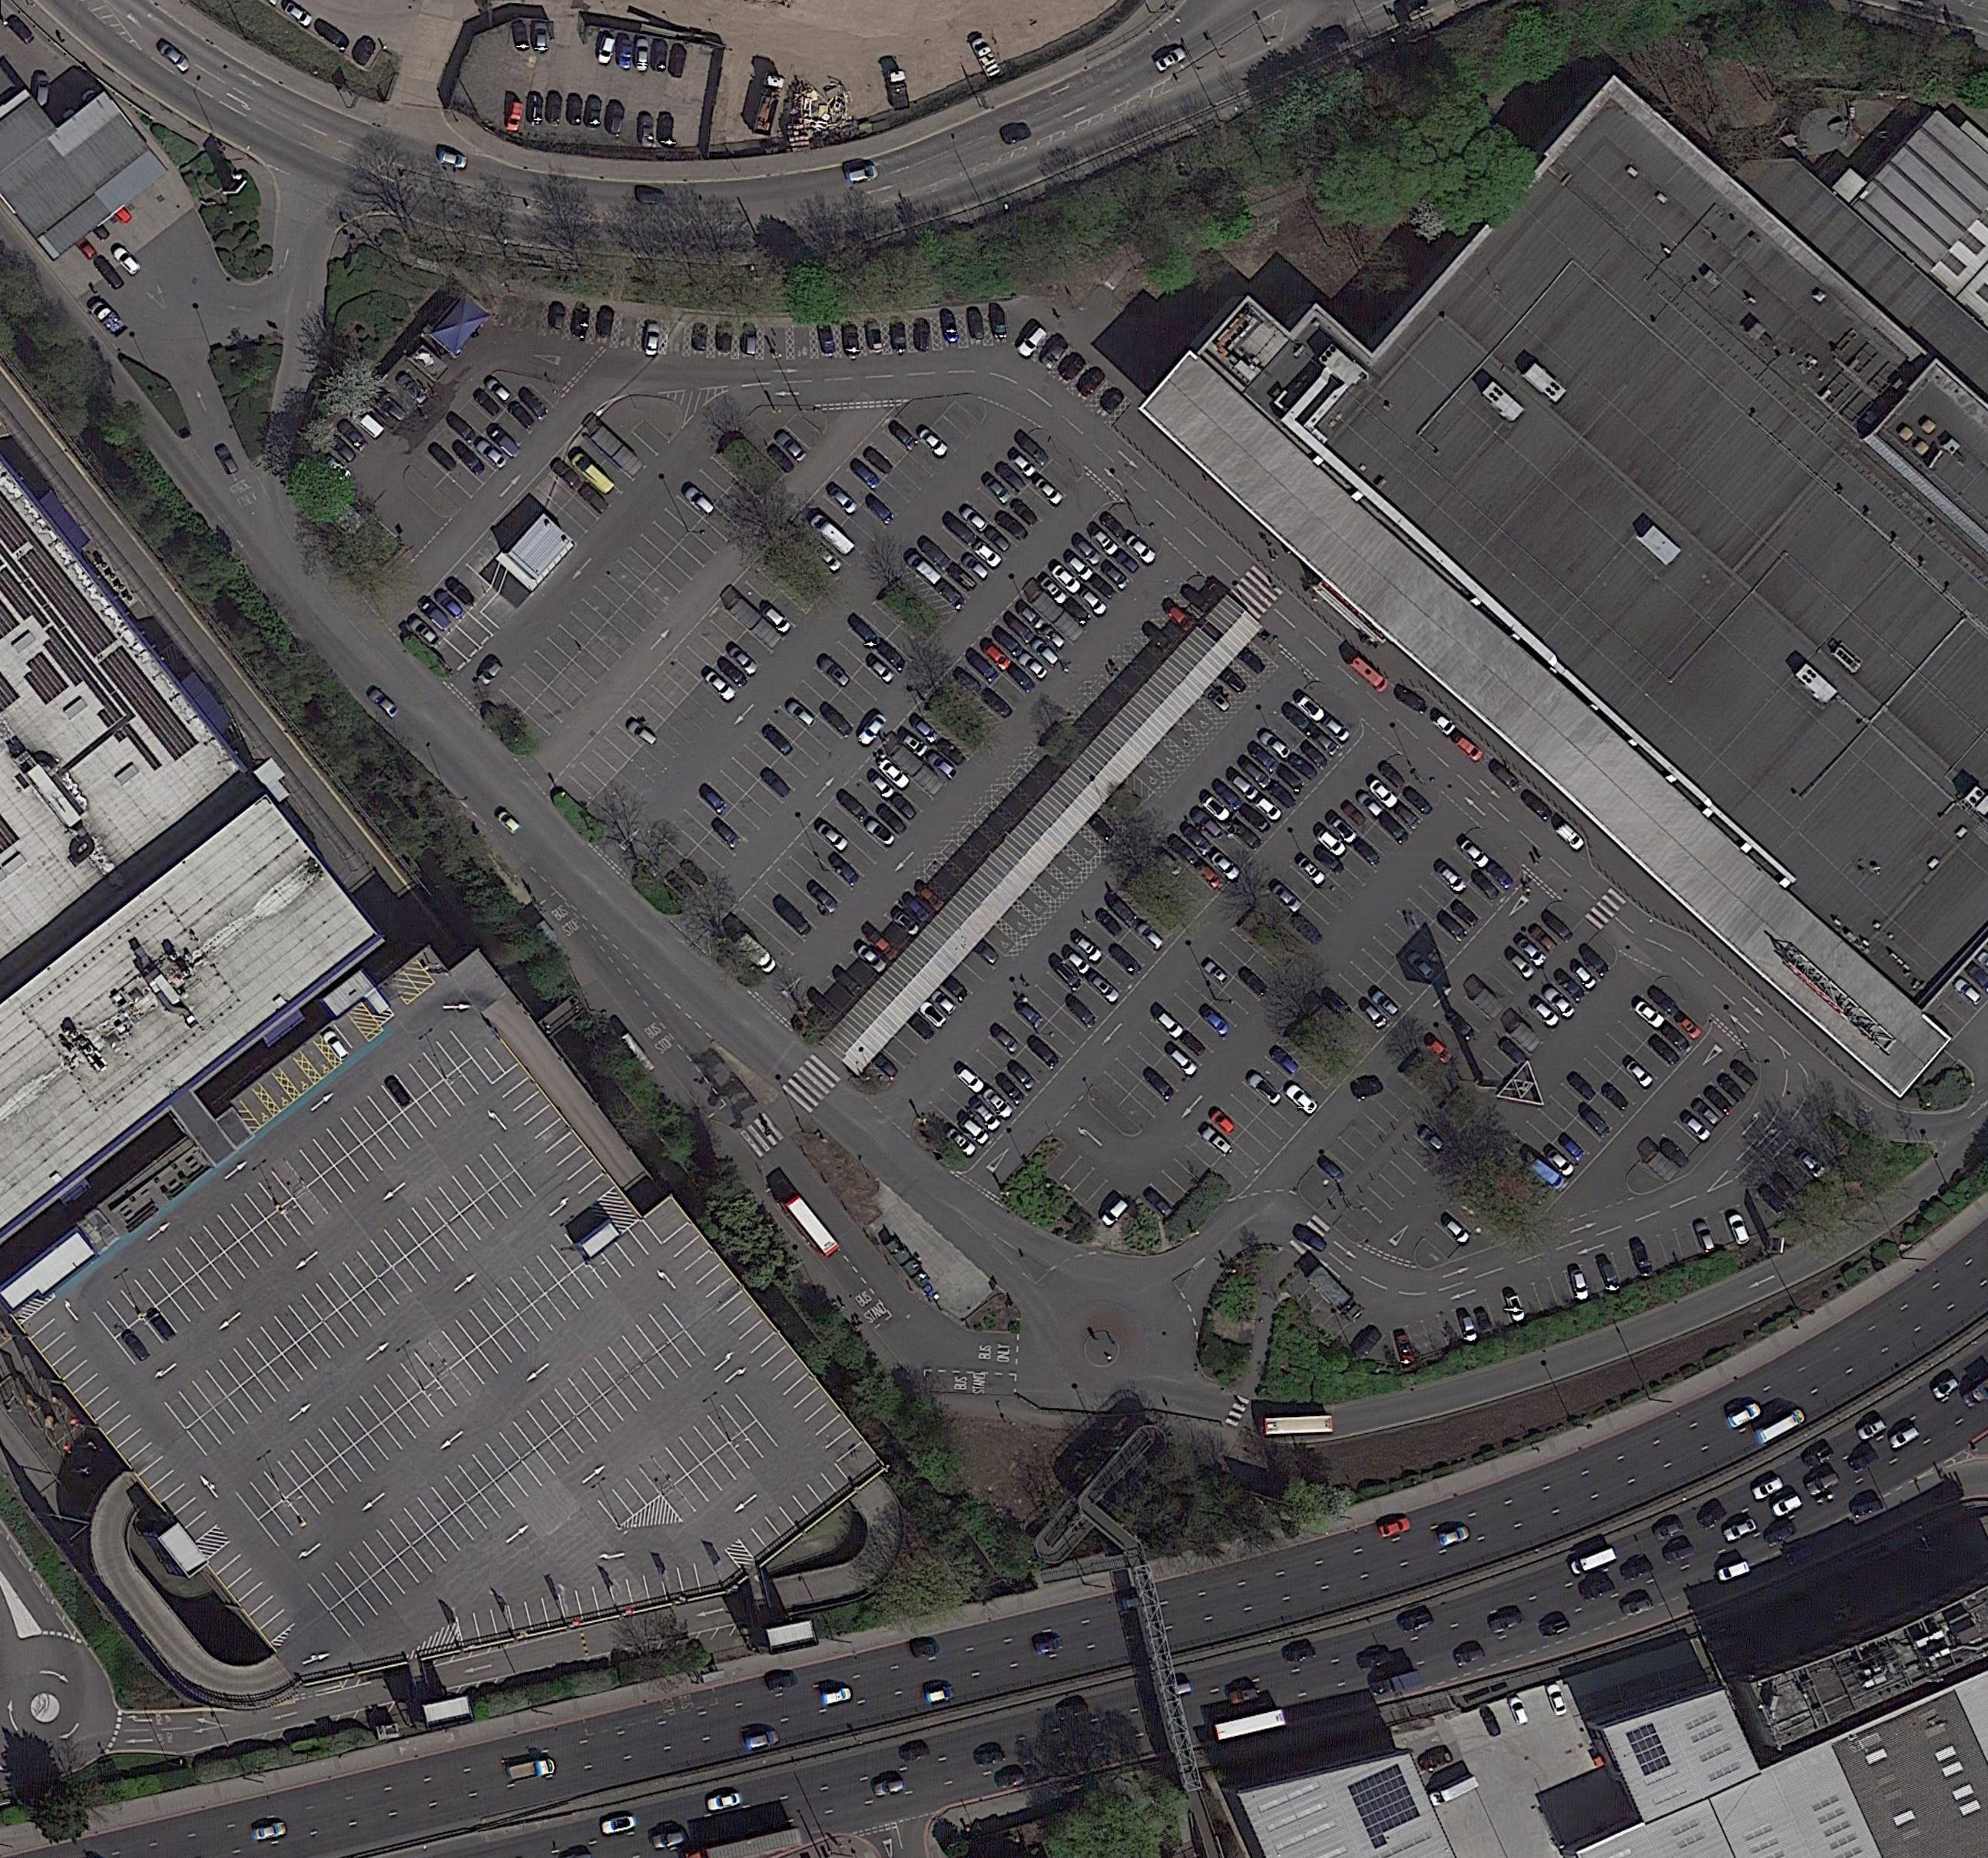large vehicle: (783, 1193, 842, 1259), (1303, 1263, 1366, 1324), (1214, 1706, 1287, 1744), (751, 72, 788, 138), (1427, 1771, 1480, 1809), (1368, 1668, 1425, 1699), (87, 299, 129, 341), (1263, 1413, 1335, 1437), (970, 37, 1004, 82), (507, 1755, 559, 1785), (886, 68, 912, 114)
roundabout: (1083, 1329, 1122, 1367), (30, 1692, 63, 1724)
small vehicle: (807, 512, 856, 559), (569, 451, 618, 498), (1752, 1406, 1806, 1448), (732, 932, 779, 976), (1347, 653, 1391, 697), (1523, 1154, 1567, 1194), (1567, 1545, 1619, 1577), (416, 594, 454, 636), (1244, 1070, 1286, 1109), (905, 550, 945, 588), (484, 423, 524, 461), (1541, 983, 1581, 1022), (395, 370, 433, 409), (772, 428, 811, 466), (863, 926, 901, 964), (1282, 1081, 1322, 1118), (807, 988, 844, 1027), (978, 1086, 1017, 1123), (1085, 969, 1123, 1006), (549, 458, 587, 494), (91, 253, 128, 292), (701, 669, 739, 705), (875, 756, 914, 793), (854, 941, 893, 978), (1179, 821, 1218, 857), (777, 901, 814, 939), (155, 40, 196, 75), (814, 821, 854, 856), (1048, 562, 1085, 599), (919, 538, 956, 575), (473, 437, 510, 473), (452, 442, 489, 478), (758, 601, 795, 637), (1515, 934, 1551, 971), (1543, 1144, 1579, 1180), (1013, 323, 1048, 361), (994, 510, 1032, 545), (365, 686, 404, 721), (816, 655, 854, 690), (1455, 836, 1494, 871), (1097, 559, 1134, 594), (970, 538, 1006, 573), (1123, 533, 1160, 568), (968, 1098, 1004, 1133), (1066, 995, 1102, 1030), (1108, 943, 1144, 978), (335, 417, 370, 454), (405, 615, 442, 650), (374, 391, 411, 426), (760, 723, 797, 758), (725, 643, 762, 678), (681, 484, 718, 519), (854, 711, 889, 747), (924, 749, 961, 784), (1794, 1147, 1831, 1182), (1647, 1032, 1682, 1069), (1190, 805, 1225, 842), (1207, 849, 1244, 884), (1364, 777, 1401, 812), (873, 803, 910, 838), (1268, 880, 1305, 915), (943, 515, 982, 548), (956, 1114, 994, 1147), (1256, 728, 1294, 761), (145, 1306, 178, 1345), (314, 19, 353, 52), (1632, 997, 1670, 1030), (1198, 1125, 1237, 1158), (1628, 1242, 1658, 1283), (1071, 534, 1106, 569), (1076, 585, 1111, 620), (980, 639, 1015, 674), (1163, 601, 1198, 636), (1087, 524, 1122, 559), (933, 578, 968, 613), (431, 587, 466, 622), (3, 12, 38, 47), (1434, 861, 1469, 896), (1768, 1170, 1803, 1205), (1702, 1083, 1736, 1118), (1714, 1070, 1749, 1105), (1529, 997, 1563, 1032), (1226, 770, 1261, 805), (1165, 833, 1200, 868), (807, 882, 842, 917), (1405, 948, 1439, 983), (1350, 1325, 1385, 1360), (1179, 583, 1216, 616), (1450, 732, 1487, 765), (1293, 692, 1329, 725), (1307, 726, 1343, 760), (318, 452, 355, 485), (1525, 922, 1562, 955), (1646, 985, 1682, 1018), (1656, 1137, 1693, 1170), (1211, 781, 1247, 814), (1198, 791, 1235, 824), (912, 882, 949, 915), (837, 791, 873, 824), (1312, 843, 1349, 877), (1289, 913, 1326, 946), (1724, 1400, 1763, 1432), (1038, 573, 1071, 608), (1029, 636, 1064, 669), (1216, 664, 1251, 697), (1490, 760, 1523, 795), (1018, 435, 1052, 470), (994, 461, 1029, 494), (945, 562, 980, 595), (1027, 1037, 1062, 1070), (1052, 959, 1085, 994), (1108, 898, 1142, 931), (1142, 1187, 1177, 1221), (760, 768, 795, 802), (320, 1029, 353, 1063), (917, 424, 950, 459), (517, 388, 550, 423), (110, 244, 143, 279), (935, 735, 970, 768), (832, 967, 866, 1001), (1448, 898, 1483, 931), (1951, 976, 1986, 1009), (1756, 1180, 1789, 1215), (1577, 945, 1612, 978), (1658, 1022, 1693, 1055), (1443, 1009, 1478, 1043), (1553, 971, 1588, 1004), (1239, 803, 1274, 836), (828, 856, 863, 889), (863, 815, 898, 849), (1142, 1069, 1177, 1102), (1326, 814, 1361, 847), (1321, 987, 1354, 1022), (1553, 819, 1586, 854), (1294, 854, 1329, 887), (1167, 1046, 1202, 1079), (1237, 966, 1272, 999), (1268, 1044, 1303, 1077), (1015, 651, 1052, 683), (383, 1072, 414, 1109), (825, 485, 861, 517), (1805, 1469, 1841, 1500), (1763, 1519, 1799, 1551), (1721, 1516, 1759, 1545), (1417, 1746, 1455, 1776), (1064, 550, 1097, 583), (994, 627, 1027, 660), (1142, 623, 1176, 657), (1249, 744, 1282, 777), (812, 541, 846, 575), (325, 433, 358, 466), (426, 440, 459, 473), (578, 482, 611, 515), (445, 576, 479, 609), (877, 641, 910, 674), (851, 618, 884, 651), (765, 444, 798, 477), (1543, 912, 1576, 945), (1504, 950, 1537, 983), (1378, 812, 1412, 845), (1522, 791, 1555, 824), (1439, 1215, 1473, 1249), (1424, 1034, 1457, 1067), (1008, 498, 1043, 529), (1319, 714, 1354, 746), (943, 1126, 978, 1158), (954, 1065, 989, 1097), (625, 718, 660, 749), (121, 1329, 152, 1364), (716, 658, 751, 690), (784, 698, 819, 730), (823, 705, 854, 740), (896, 728, 931, 760), (1485, 859, 1516, 894), (1401, 786, 1436, 817), (1153, 1009, 1188, 1041), (1153, 45, 1190, 75), (1749, 1474, 1785, 1504), (1294, 1224, 1331, 1254), (1487, 1608, 1525, 1636), (1691, 1219, 1719, 1257), (599, 1813, 639, 1839), (1015, 601, 1048, 632), (1006, 662, 1038, 695), (1200, 683, 1233, 714), (1237, 644, 1268, 678), (1396, 686, 1429, 718), (865, 496, 898, 527), (1076, 367, 1108, 400), (1032, 477, 1066, 508), (982, 475, 1015, 506), (957, 503, 991, 534), (959, 550, 992, 581), (1013, 999, 1046, 1030), (970, 936, 1003, 967), (1134, 920, 1167, 952), (1099, 1196, 1130, 1229), (1240, 760, 1274, 791), (664, 870, 697, 901), (678, 857, 711, 889), (699, 784, 730, 817), (865, 655, 898, 686), (863, 445, 896, 477), (851, 459, 882, 492), (1438, 912, 1471, 943), (1681, 1112, 1714, 1144), (1691, 1097, 1722, 1130), (1581, 1109, 1612, 1142), (1625, 1058, 1656, 1091), (1565, 1070, 1597, 1104), (1497, 1034, 1529, 1067), (1569, 960, 1600, 994), (891, 908, 924, 939), (1352, 838, 1385, 870), (1200, 1006, 1233, 1037), (1315, 1154, 1349, 1186), (1286, 753, 1321, 782), (445, 416, 480, 445), (1801, 1442, 1836, 1472), (1695, 1504, 1729, 1533), (281, 0, 316, 30), (1887, 1423, 1923, 1451), (1504, 1692, 1532, 1729), (704, 1790, 746, 1814), (1726, 1212, 1754, 1249), (1597, 1257, 1625, 1294), (1579, 1577, 1618, 1603), (1398, 1608, 1436, 1634), (1504, 1290, 1530, 1329), (1006, 615, 1038, 646), (1099, 512, 1130, 543), (917, 999, 949, 1030), (940, 973, 971, 1004), (1094, 908, 1125, 939), (1377, 760, 1408, 791), (475, 657, 507, 688), (866, 770, 898, 802), (910, 714, 942, 746), (1471, 870, 1502, 901), (1930, 1373, 1962, 1404), (1600, 1081, 1632, 1112), (1155, 849, 1186, 880), (1392, 800, 1424, 831), (1085, 812, 1116, 843), (901, 894, 933, 926), (889, 791, 921, 822), (1359, 1001, 1391, 1032), (1370, 988, 1401, 1020), (1207, 1105, 1239, 1137), (1087, 573, 1120, 602), (907, 1011, 936, 1044), (1073, 934, 1106, 964), (1280, 704, 1314, 733), (1728, 1058, 1761, 1088), (1253, 795, 1286, 824), (1415, 1125, 1448, 1154), (248, 1820, 288, 1844), (213, 444, 241, 478), (1770, 1491, 1805, 1519), (435, 147, 472, 173), (1715, 1558, 1752, 1584), (1544, 1682, 1570, 1718), (1377, 1514, 1413, 1540), (650, 1828, 688, 1853), (744, 1729, 783, 1753), (1062, 597, 1094, 627), (1059, 353, 1090, 382), (982, 524, 1013, 554), (1062, 946, 1094, 976), (1300, 742, 1331, 772), (1275, 763, 1307, 793), (472, 389, 503, 419), (507, 402, 538, 431), (1267, 781, 1298, 810), (1233, 822, 1265, 852), (1356, 789, 1387, 819), (1179, 1029, 1209, 1060), (1651, 1517, 1686, 1544), (1619, 1558, 1654, 1584), (1619, 1594, 1654, 1621), (1478, 1706, 1504, 1741), (1850, 1497, 1887, 1521), (1661, 1542, 1698, 1566), (1436, 1524, 1473, 1549), (872, 1776, 908, 1800), (1569, 1268, 1593, 1304), (872, 1051, 901, 1081), (929, 988, 959, 1018), (714, 821, 744, 850), (484, 375, 514, 405), (1557, 1133, 1586, 1163), (1008, 1063, 1039, 1091), (891, 423, 919, 454), (1280, 1643, 1319, 1666), (1848, 1448, 1881, 1474), (594, 33, 618, 68), (846, 162, 880, 187), (999, 122, 1034, 147), (1453, 1645, 1488, 1669), (1853, 1418, 1888, 1442), (1537, 1615, 1572, 1640), (819, 1685, 854, 1710), (1356, 1648, 1396, 1669), (503, 98, 526, 134), (816, 321, 839, 358), (1039, 623, 1069, 651), (1429, 711, 1459, 739), (1113, 548, 1142, 576), (999, 1077, 1027, 1107), (494, 809, 524, 836), (1342, 800, 1370, 829), (353, 37, 379, 68), (1784, 1542, 1815, 1568), (1457, 1311, 1481, 1345), (31, 73, 52, 112), (922, 1683, 957, 1706), (1394, 1332, 1417, 1367), (1350, 1077, 1385, 1100), (1675, 1013, 1703, 1041), (1197, 863, 1225, 891), (1202, 959, 1232, 985), (571, 306, 592, 342), (1057, 1699, 1090, 1722), (767, 1671, 800, 1694), (994, 1769, 1027, 1792), (994, 1029, 1022, 1055), (667, 45, 688, 80), (865, 321, 886, 356), (971, 1748, 1006, 1769), (1034, 1634, 1066, 1657), (1474, 1310, 1497, 1341), (657, 112, 676, 148), (643, 321, 662, 358), (583, 96, 604, 129), (606, 103, 627, 136), (989, 307, 1010, 341), (596, 307, 617, 341), (714, 321, 735, 354), (1228, 1685, 1261, 1706), (898, 1743, 931, 1764), (1011, 454, 1038, 480), (526, 93, 545, 127), (650, 38, 669, 73), (638, 115, 657, 150), (842, 325, 861, 360), (510, 21, 531, 52), (940, 313, 961, 344), (912, 1640, 943, 1661), (1102, 389, 1127, 416), (634, 37, 652, 73), (914, 318, 931, 354), (547, 93, 564, 127), (893, 321, 910, 356), (618, 38, 636, 72), (968, 309, 985, 342), (690, 321, 709, 351), (568, 96, 585, 127), (741, 325, 758, 356), (533, 21, 549, 52), (550, 304, 568, 332), (638, 190, 667, 206)
